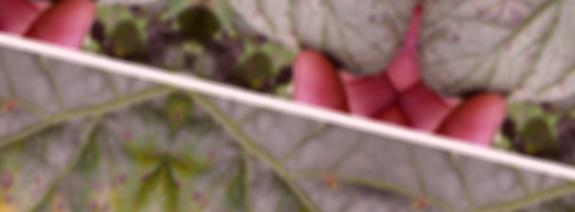Tomato Septoria leaf spot: (126, 100, 377, 212), (198, 0, 445, 100)
